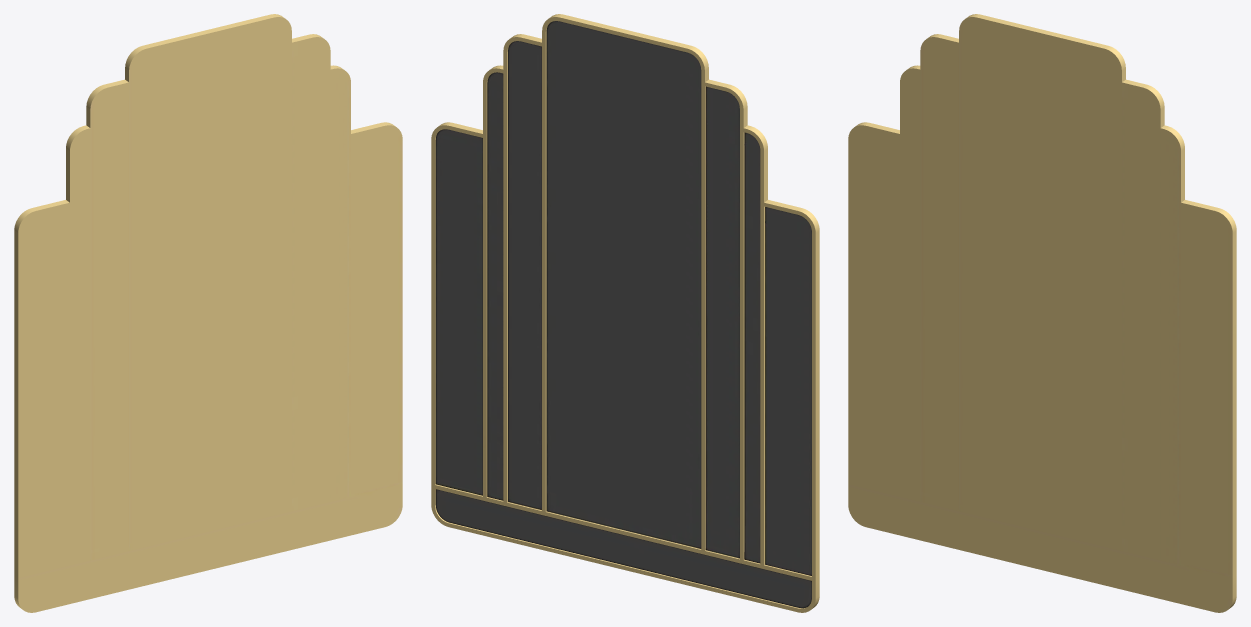
File: mirror_art_deco_ardocast.glb
The picture shows the model from 3 angles, left to right: view 1: azimuth 30°, elevation 25°; view 2: azimuth 150°, elevation 25°; view 3: azimuth 330°, elevation 25°; orthographic projection.
Visible parts, largest first — view 1: glass1_low_TT_checker_512x512_UV_GRID_0; view 2: glass1_low_TT_checker_512x512_UV_GRID_0; view 3: glass1_low_TT_checker_512x512_UV_GRID_0.
Part boxes in pixels (<box>): glass1_low_TT_checker_512x512_UV_GRID_0: <box>14,14,402,612</box>; glass1_low_TT_checker_512x512_UV_GRID_0: <box>431,14,819,612</box>; glass1_low_TT_checker_512x512_UV_GRID_0: <box>848,14,1236,612</box>.
Size of the model in its own units: 0.9736 by 1.3 by 0.0174.
1 material, 1 textured.
